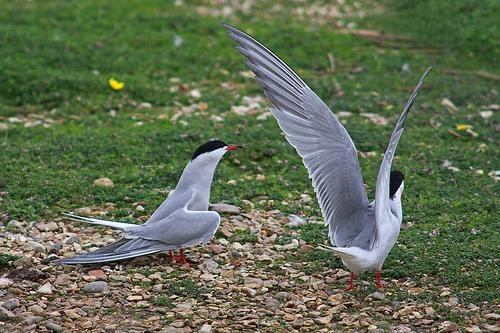bird: (221, 16, 434, 291), (53, 137, 243, 277)
